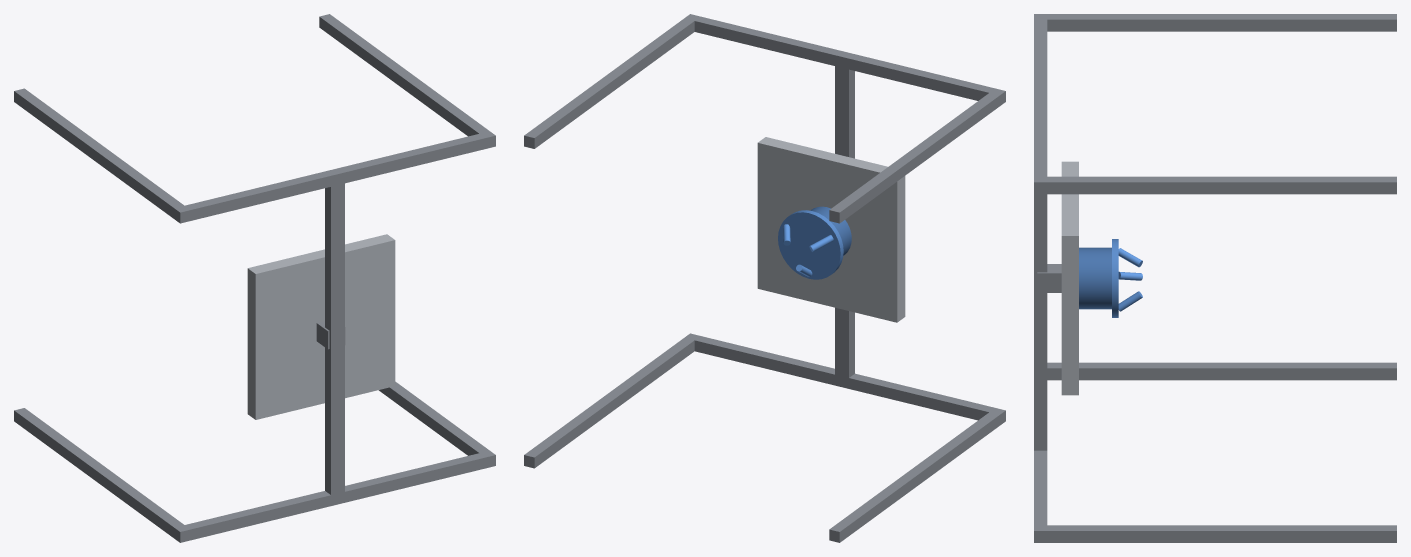
The model's file is vde_gantry.obj.
3 renders of one model, left to right at view 1: azimuth 30°, elevation 25°; view 2: azimuth 150°, elevation 25°; view 3: azimuth 270°, elevation 25°, orthographic. The views are drawn at different scales.
Visible parts, largest first — view 1: vde_gantry; view 2: vde_gantry; view 3: vde_gantry.
Part boxes in pixels (x1=…): vde_gantry: x1=14, y1=14, x2=495, y2=542; vde_gantry: x1=524, y1=14, x2=1005, y2=542; vde_gantry: x1=1034, y1=14, x2=1396, y2=542.
Bounding box in the file's own units: 3.62 × 3.62 × 3.3.
